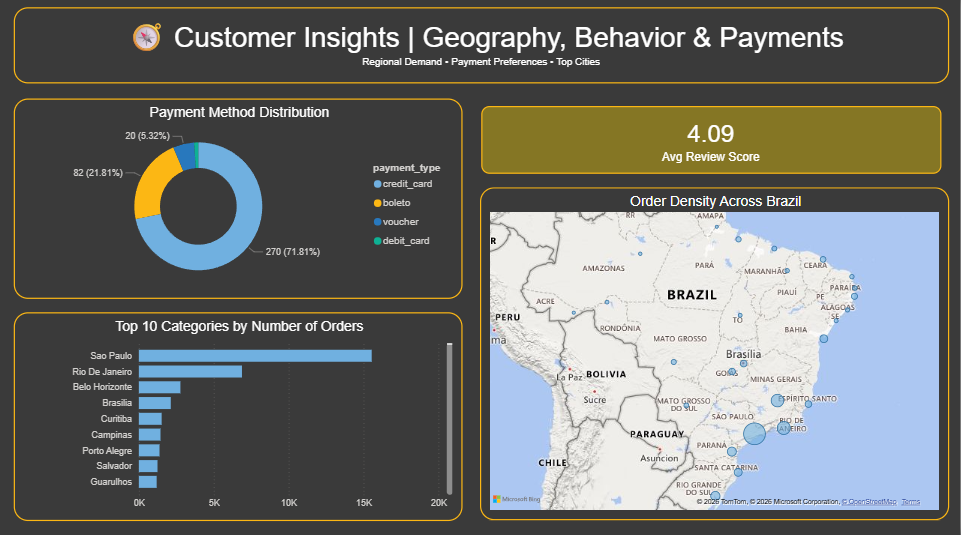

Layout of this report page (visuals, bound fields, positions):
{"tool":"powerbi","page":{"name":"Page 3","canvas":[1280,720],"ordinal":2},"visuals":[{"type":"textbox","box":[18.6,15.7,1247.1,101.4],"z":0},{"type":"map","title":"Order Density Across Brazil","fields":{"Category":["olist customers.STATE NAME"],"Size":["Measures (2).Total orders"]},"box":[640.8,255.6,625.2,444],"z":1000},{"type":"donutChart","title":"Payment Method Distribution","fields":{"Category":["olist payments.payment_type"],"Y":["CountNonNull(olist payments.order_id)"]},"box":[18.6,137.1,598.6,267.1],"z":2000},{"type":"barChart","title":"Top 10 Categories by Number of Orders","fields":{"Category":["olist customers.customer_city"],"Y":["Measures (2).Total orders"]},"box":[18.6,421.4,598.6,278.6],"z":3000},{"type":"card","fields":{"Values":["Measures (2).Avg Review Score"]},"box":[642,146.4,613.2,90],"z":4000}]}

Visuals, with their boxes in screenshot pixels (x1, y1, x2, y2), scaled from the page's 1280x720 canvas onto the 961x535 screenshot:
textbox: bbox=[14, 12, 950, 87]
"Order Density Across Brazil" map: bbox=[481, 190, 950, 520]
"Payment Method Distribution" donutChart: bbox=[14, 102, 463, 300]
"Top 10 Categories by Number of Orders" barChart: bbox=[14, 313, 463, 520]
card - Measures (2).Avg Review Score: bbox=[482, 109, 942, 176]
